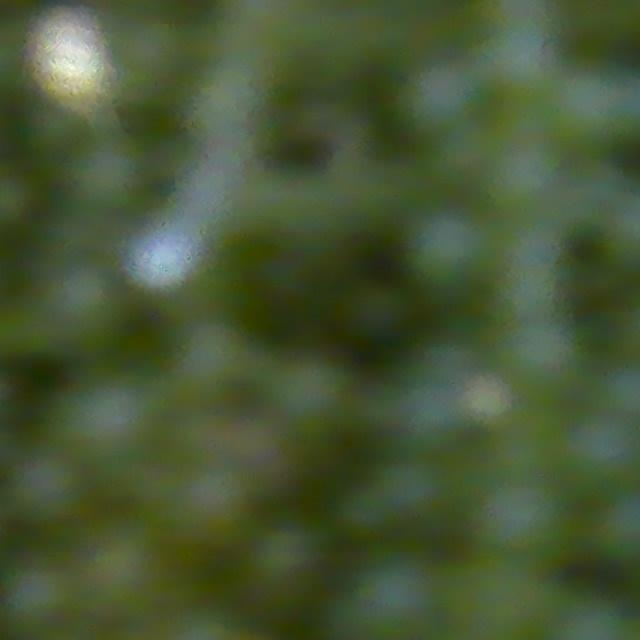SeaGrape: (51, 364, 166, 472), (65, 522, 168, 632), (29, 257, 128, 358), (470, 480, 580, 569), (162, 453, 258, 550), (334, 555, 439, 640), (359, 450, 458, 539), (262, 349, 356, 439), (242, 512, 331, 606), (168, 315, 258, 403), (499, 314, 586, 396), (4, 447, 90, 529), (548, 62, 624, 153), (66, 132, 149, 215), (484, 18, 565, 102), (413, 211, 498, 290), (397, 63, 477, 143), (563, 410, 640, 491), (0, 555, 78, 632), (485, 136, 563, 213)
